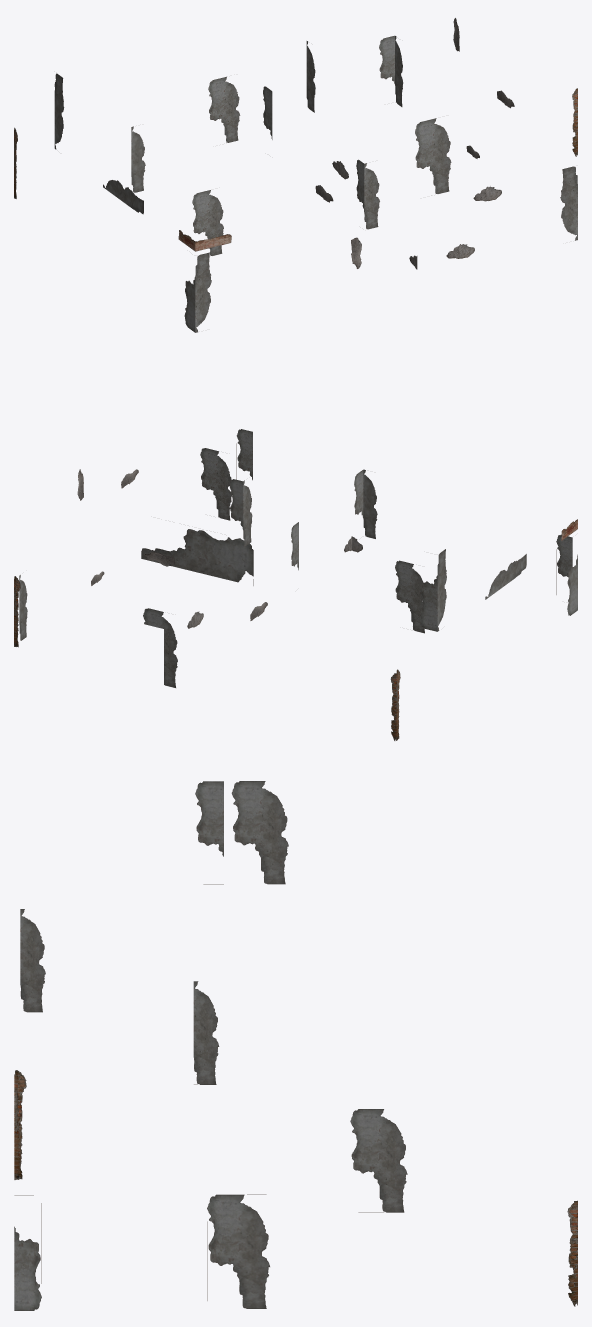
Rendered from BuildingLarge2cDecal01.glb.
The picture shows the model from 3 angles, top to bottom: view 1: azimuth 30°, elevation 25°; view 2: azimuth 150°, elevation 25°; view 3: azimuth 270°, elevation 25°; orthographic projection. The views are drawn at different scales.
Parts seen in each view (by area): view 1: xiutz_building_large_2c_deca; view 2: xiutz_building_large_2c_deca; view 3: xiutz_building_large_2c_deca.
Boxes of the visible parts, bbox=[...] form: xiutz_building_large_2c_deca: bbox=[14, 18, 577, 332]; xiutz_building_large_2c_deca: bbox=[14, 429, 577, 740]; xiutz_building_large_2c_deca: bbox=[14, 781, 577, 1310].
Size of the model in its own units: 24.04 by 9.65 by 19.74.
Materials: 1 (1 with a texture image).
